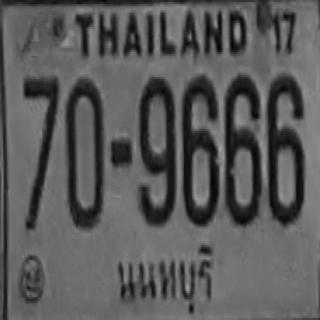N00: (65, 77, 103, 226)
N06: (266, 73, 304, 222), (180, 74, 217, 223), (223, 74, 260, 223)
N07: (22, 76, 59, 228)
N09: (137, 75, 175, 222)
P37: (114, 241, 218, 311)
